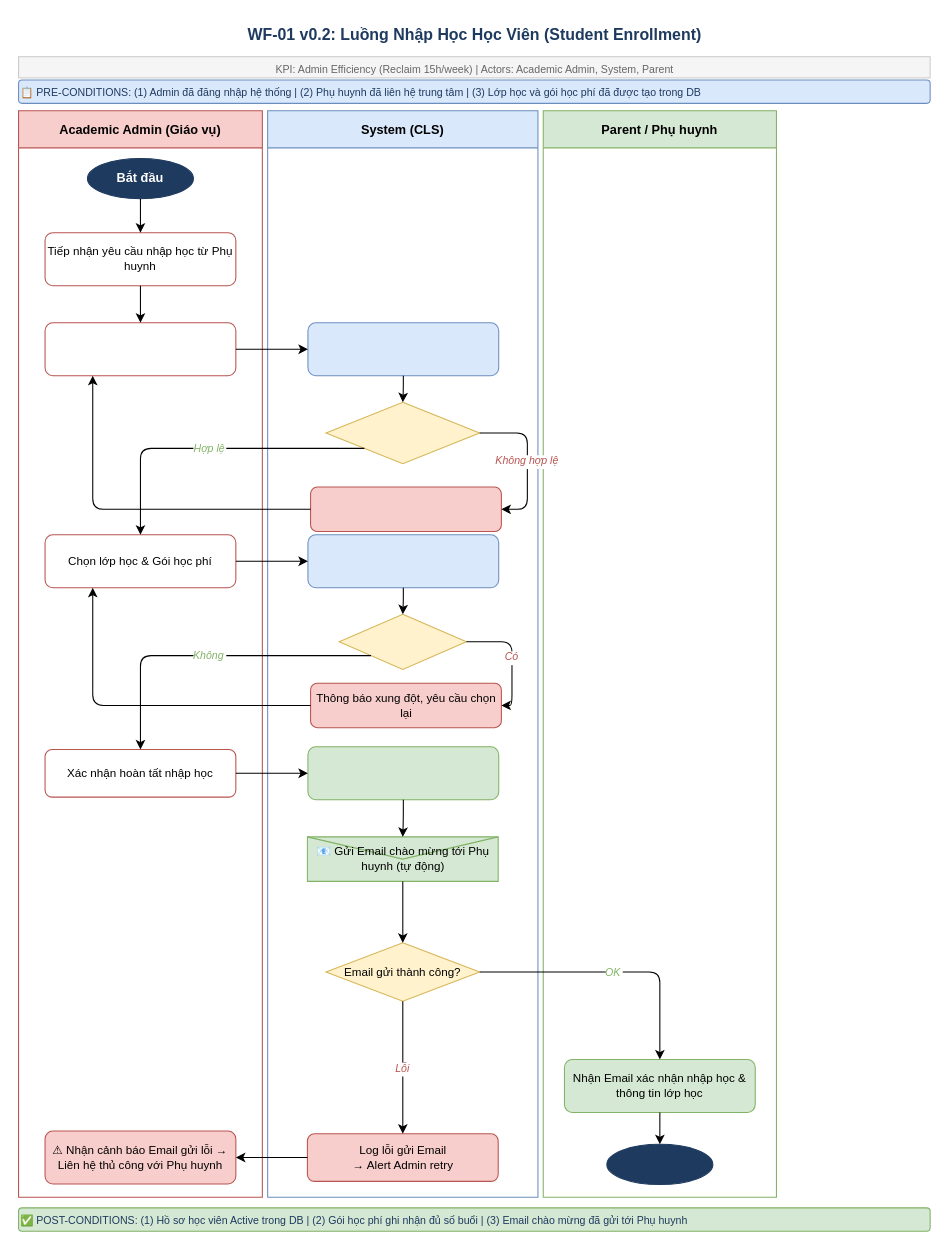
Some shapes in this 949 by 1250 pixel diagram are drawn without their labels. Each missing label, with the centre of its shape:
Có xung đột?: the point at 402,641
Dữ liệu hợp lệ?: the point at 402,432
Hiển thị lỗi, yêu cầu nhập lại: the point at 405,509
Kiểm tra xung đột lịch học & phòng: the point at 403,561
Kết thúc: the point at 659,1164
Nhập thông tin học viên (họ tên, liên hệ, ngày sinh): the point at 140,349
Tạo hồ sơ học viên trong DB Ghi nhận gói học phí & số buổi: the point at 403,773
Validate dữ liệu (trùng lặp, thiếu trường bắt buộc): the point at 403,349
